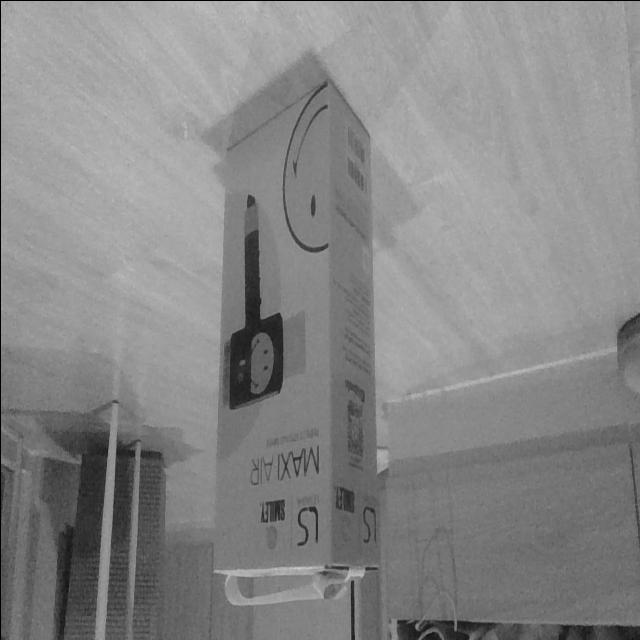Dryer: (210, 78, 382, 608)
